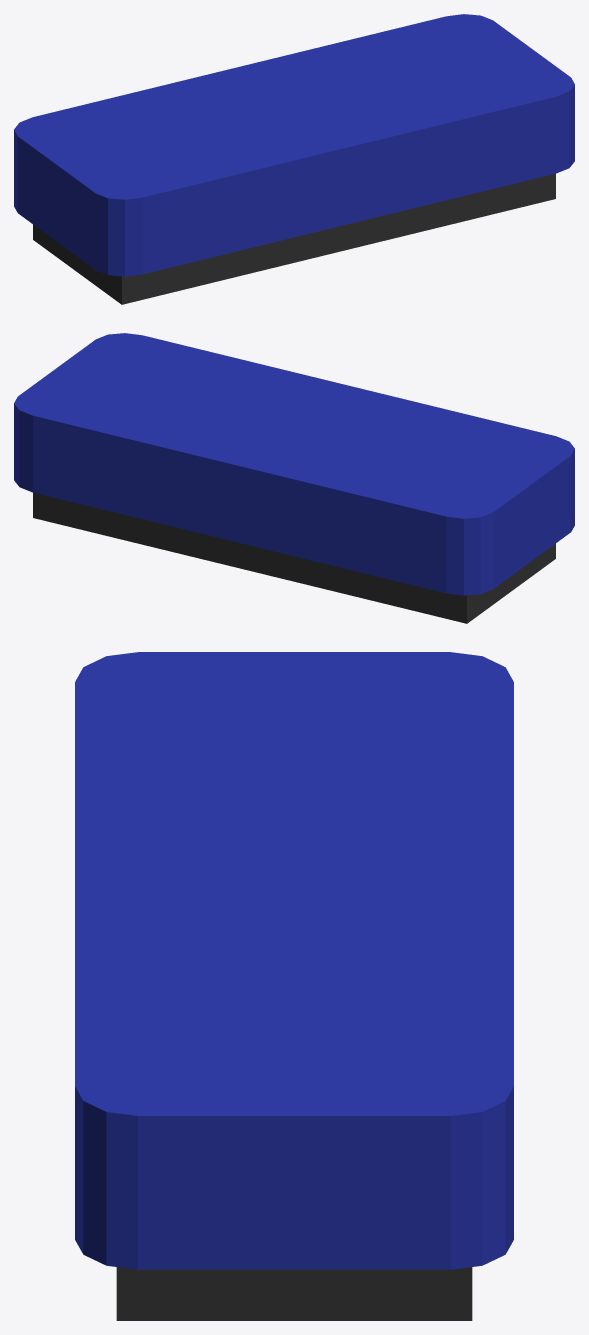
Rendered from MarkerEraser.fbx.
The picture shows the model from 3 angles, top to bottom: view 1: azimuth 30°, elevation 25°; view 2: azimuth 150°, elevation 25°; view 3: azimuth 270°, elevation 25°; orthographic projection. The views are drawn at different scales.
Visible parts, largest first — view 1: MarkerEraser; view 2: MarkerEraser; view 3: MarkerEraser.
Boxes of the visible parts, box(x1,y1,x2,y2) form: MarkerEraser: box(14, 14, 574, 304); MarkerEraser: box(14, 333, 574, 623); MarkerEraser: box(75, 652, 513, 1320).
Size of the model in its own units: 13.43 by 3.04 by 5.37.
